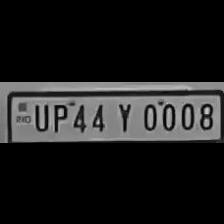0: (137, 99, 159, 131), (159, 99, 177, 131), (177, 98, 195, 130)
4: (87, 98, 109, 132), (68, 100, 88, 132)
8: (196, 98, 214, 130)
P: (48, 100, 68, 132)
U: (29, 100, 48, 132)
Y: (110, 99, 134, 133)
